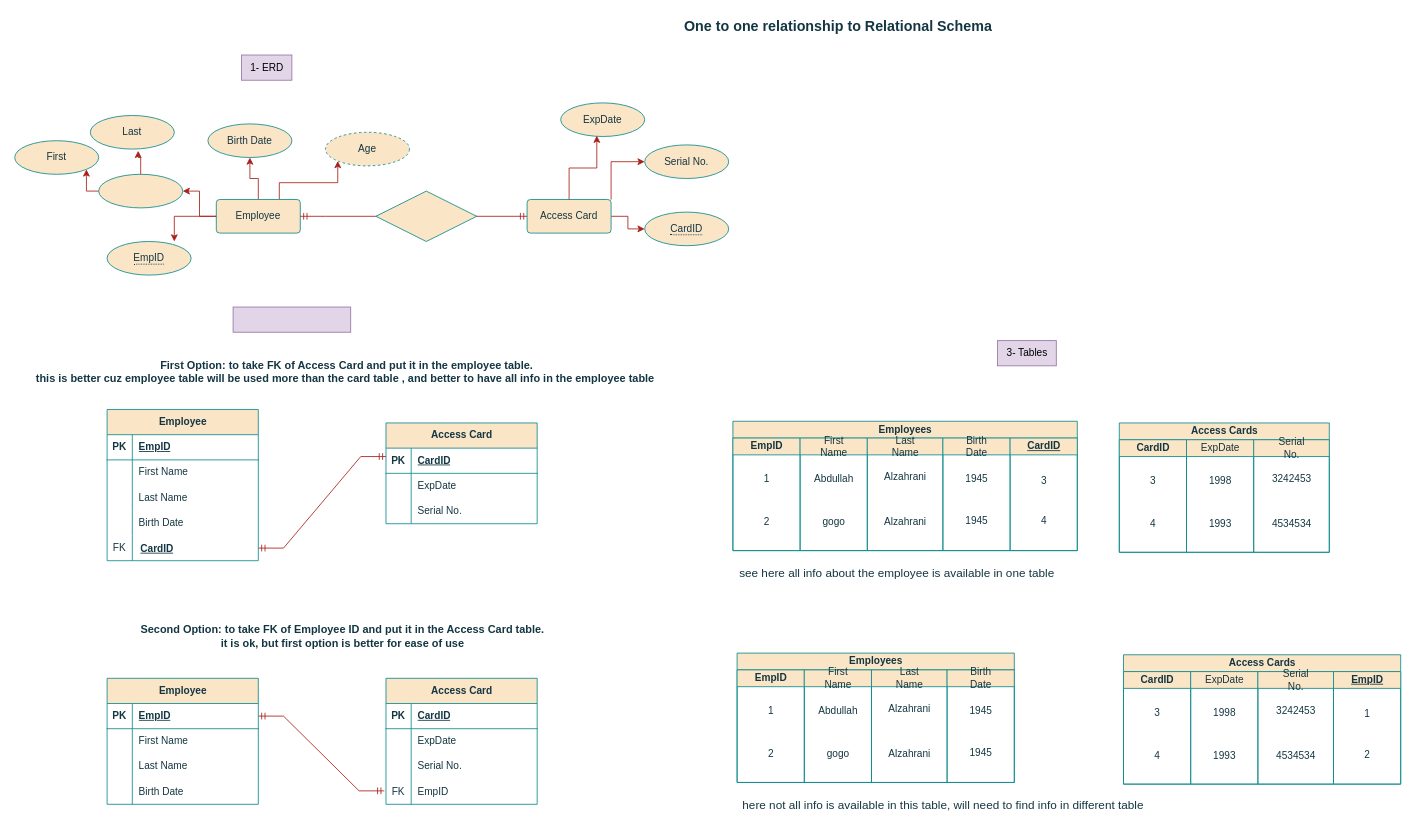
This 1415x832 diagram has some shape labels left out. The shapes that lost their labels are listed below. From the top down, each one's centre as x and y in pixels, then its label:
(140,190): Name
(426,216): Has
(291,319): 2- Relational Schema
